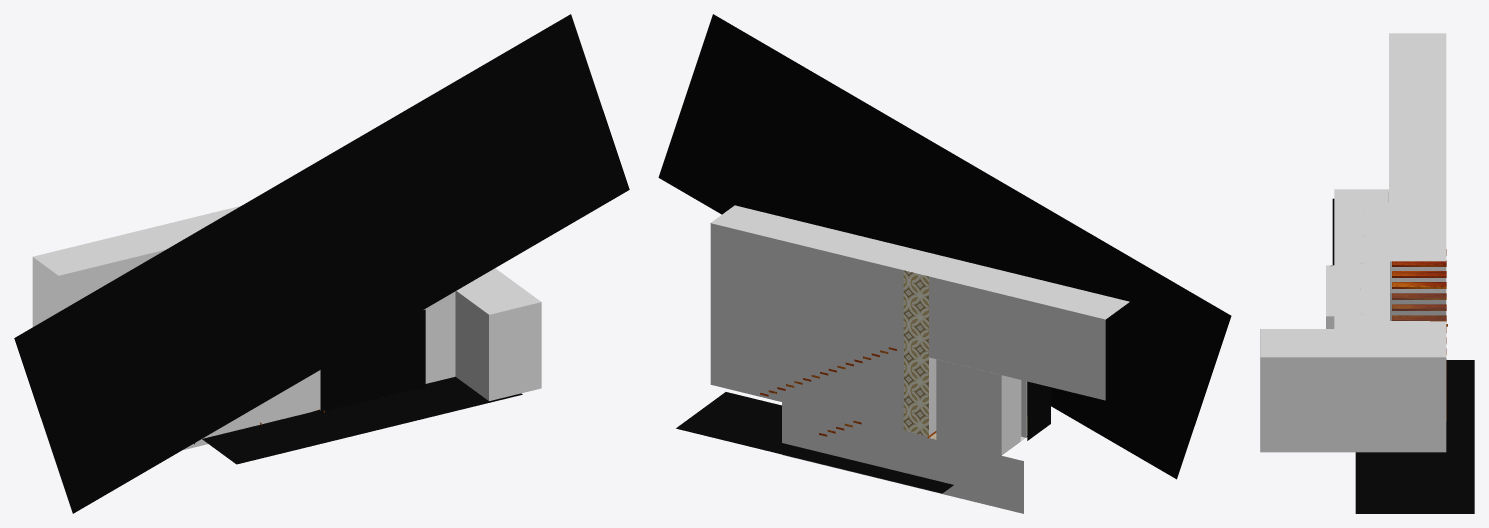
Rendered from stairscase.obj.
3 views of the same model, side by side, from view 1: azimuth 30°, elevation 25°; view 2: azimuth 150°, elevation 25°; view 3: azimuth 270°, elevation 25° (orthographic). The views are drawn at different scales.
Bounding box in the file's own units: 41.88 × 25.91 × 11.45.
Materials: 14 (3 with a texture image).
